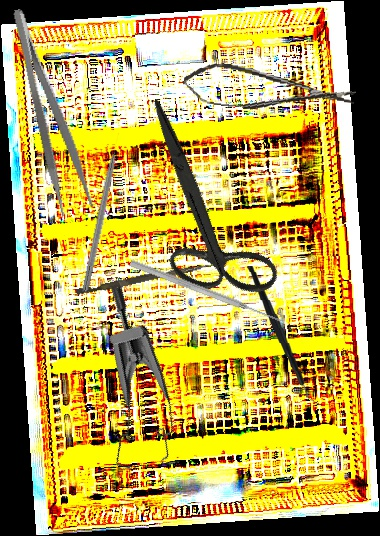Chopper: (246, 261, 323, 410)
Dressing Forceps: (7, 3, 96, 217)
Hook Surgical: (81, 131, 124, 294)
Iris Scissors: (80, 98, 323, 324)
Micro Scissor: (180, 58, 358, 124)
Pusher: (128, 258, 284, 326), (75, 258, 210, 299)
Speculum: (37, 277, 212, 490)
